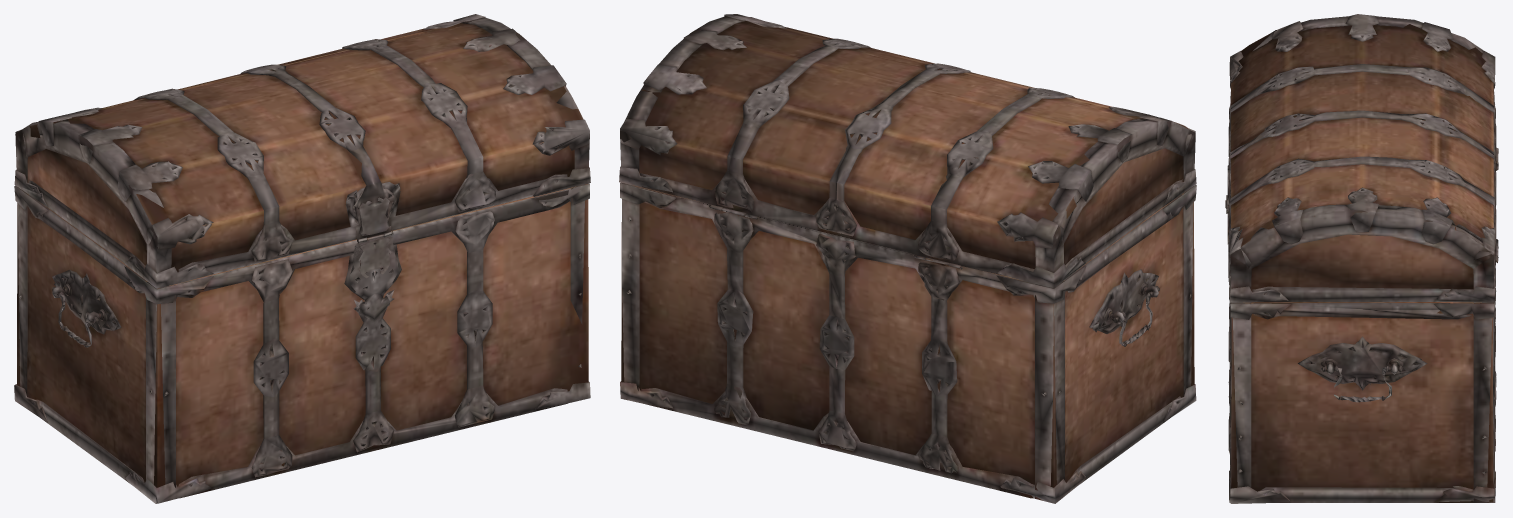
File: treasure_chest.glb
3 views of the same model, side by side, from view 1: azimuth 30°, elevation 25°; view 2: azimuth 150°, elevation 25°; view 3: azimuth 270°, elevation 25° (orthographic). The views are drawn at different scales.
Visible parts, largest first — view 1: treasure_chest_bottom; view 2: treasure_chest_bottom; view 3: treasure_chest_bottom.
Boxes of the visible parts, x1,y1,x2,y2 form: treasure_chest_bottom: [14, 14, 590, 503]; treasure_chest_bottom: [619, 14, 1196, 503]; treasure_chest_bottom: [1225, 14, 1498, 503].
Bounding box in the file's own units: 0.959 × 0.6177 × 0.522.
1 material, 1 textured.
